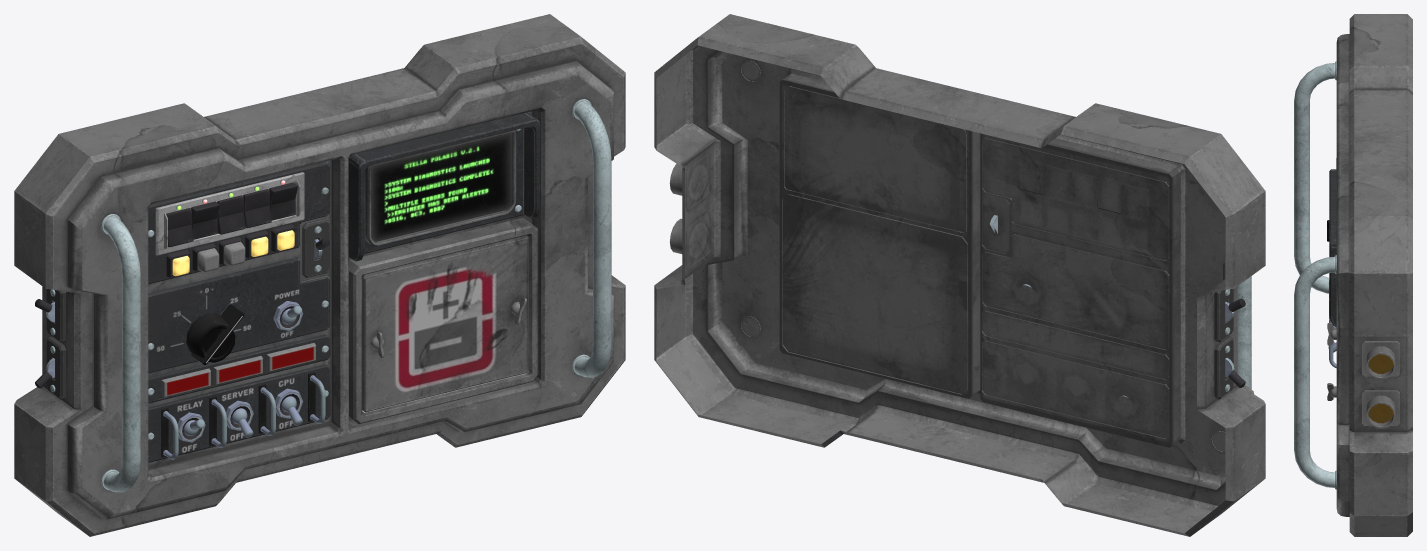
The model's file is wall-instruments.glb.
The picture shows the model from 3 angles, left to right: view 1: azimuth 30°, elevation 25°; view 2: azimuth 150°, elevation 25°; view 3: azimuth 270°, elevation 25°; orthographic projection. The views are drawn at different scales.
Parts seen in each view (by area): view 1: Plane001, defaultMaterial; view 2: Plane001, defaultMaterial; view 3: Plane001, defaultMaterial.
Part boxes in pixels (x1,y1,x2,y2): Plane001: (14, 14, 625, 536); defaultMaterial: (35, 179, 526, 459); Plane001: (654, 14, 1265, 536); defaultMaterial: (669, 154, 1245, 399); Plane001: (1294, 14, 1412, 536); defaultMaterial: (1327, 158, 1399, 428).
Bounding box in the file's own units: 2 × 1.25 × 0.4208.
2 materials, 2 textured.
